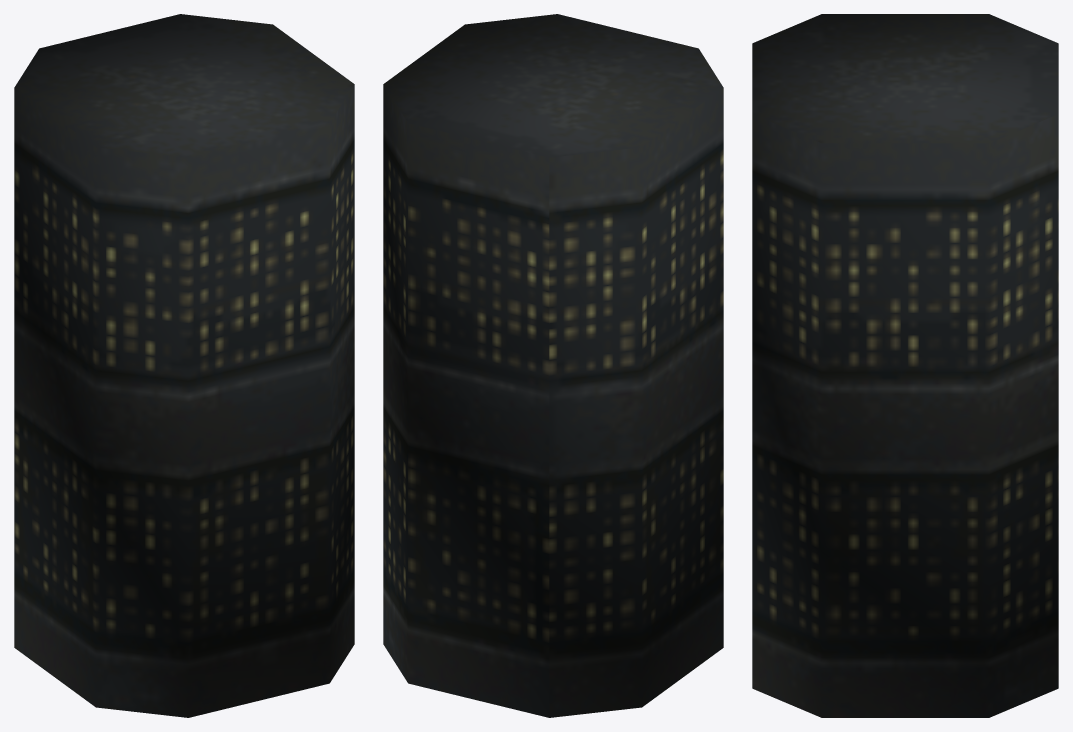
The model's file is building-large.glb.
3 renders of one model, left to right at view 1: azimuth 30°, elevation 25°; view 2: azimuth 150°, elevation 25°; view 3: azimuth 270°, elevation 25°, orthographic. The views are drawn at different scales.
Visible parts, largest first — view 1: Cube.002; view 2: Cube.002; view 3: Cube.002.
Boxes of the visible parts, <box> form: Cube.002: <box>14,14,354,717</box>; Cube.002: <box>383,14,723,717</box>; Cube.002: <box>752,14,1058,717</box>.
Size of the model in its own units: 77 by 159 by 77.
Materials: 1 (1 with a texture image).
